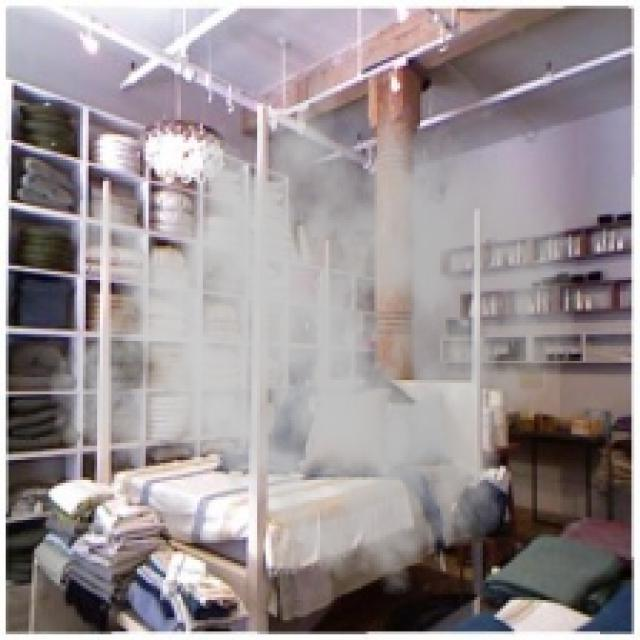Smoke: (45, 40, 578, 609)
